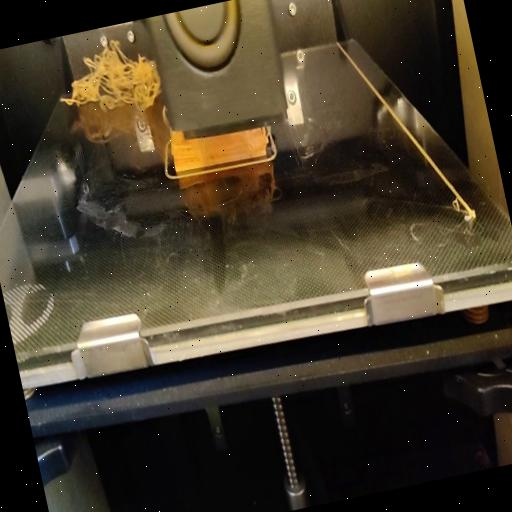spaghetti: (46, 34, 162, 122)
